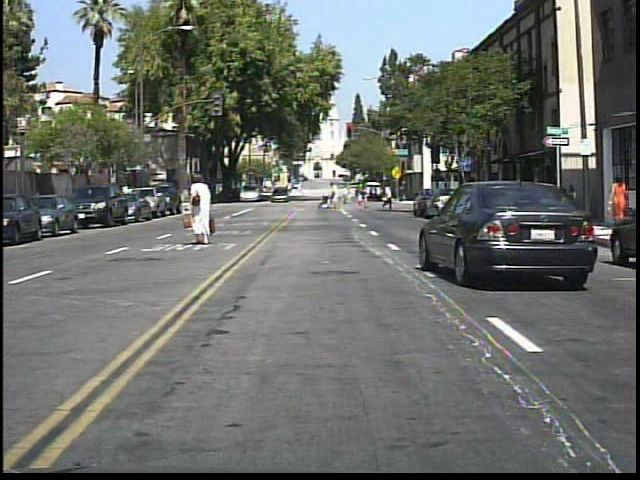person: (182, 168, 224, 251), (607, 167, 633, 228), (497, 170, 517, 219), (380, 181, 397, 212), (329, 180, 342, 210)
